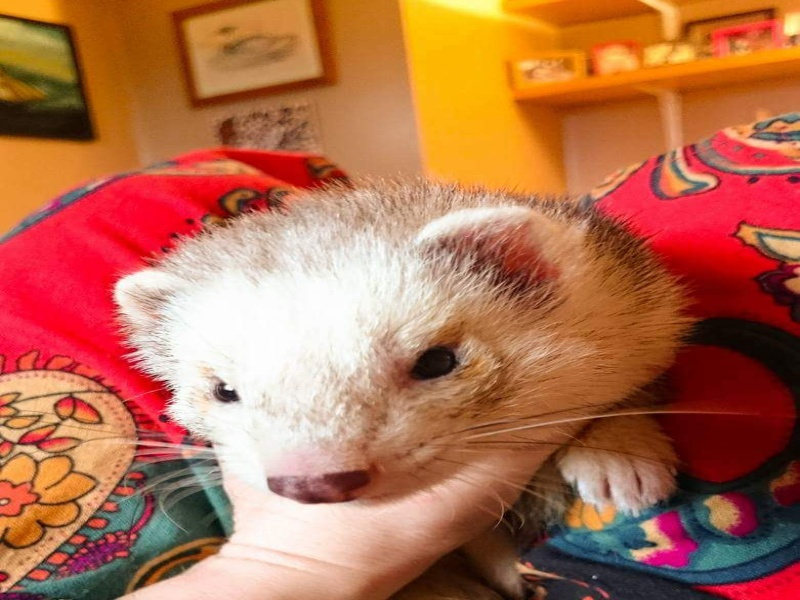minkish: (114, 192, 701, 512)
